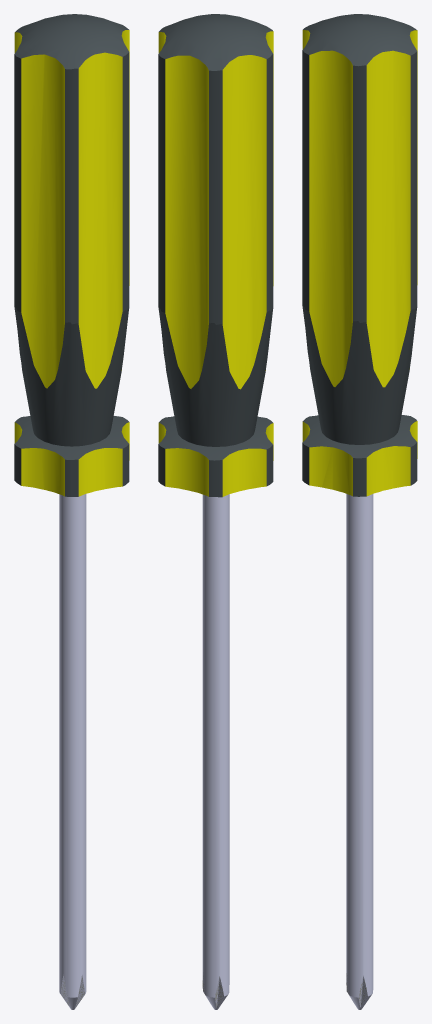
The model's file is screwdriver2.dae.
The picture shows the model from 3 angles, left to right: view 1: azimuth 90°, elevation 25°; view 2: azimuth 150°, elevation 25°; view 3: azimuth 330°, elevation 25°; orthographic projection.
Visible parts, largest first — view 1: Handle_Grip (×4), Shaft, Handle__Nut_ (×3); view 2: Handle_Grip (×4), Shaft, Handle__Nut_ (×3); view 3: Handle_Grip (×4), Shaft, Handle__Nut_ (×3).
Part boxes in pixels (bbox=[...]): Handle_Grip (×4): bbox=[14, 14, 129, 446]; Shaft: bbox=[59, 494, 86, 1009]; Handle__Nut_ (×3): bbox=[14, 416, 129, 496]; Handle_Grip (×4): bbox=[158, 14, 273, 446]; Shaft: bbox=[202, 494, 229, 1009]; Handle__Nut_ (×3): bbox=[158, 416, 273, 497]; Handle_Grip (×4): bbox=[302, 14, 417, 444]; Shaft: bbox=[346, 494, 373, 1009]; Handle__Nut_ (×3): bbox=[302, 415, 417, 496].
Bounding box in the file's own units: 1.2 × 1.09 × 10.32.
